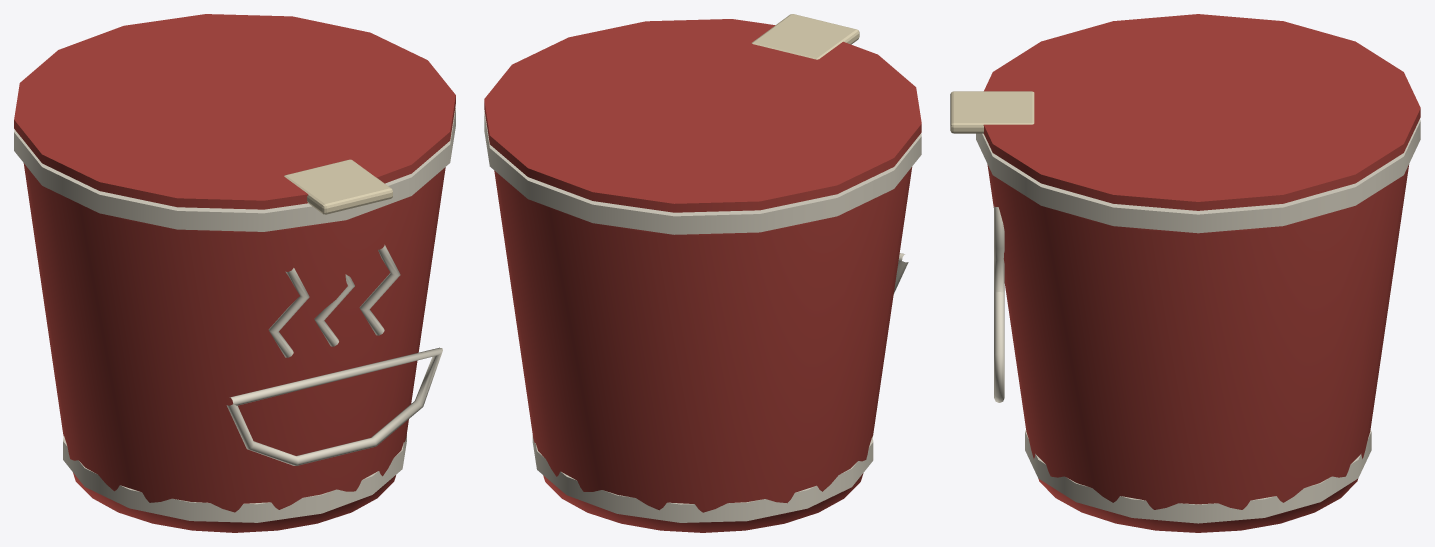
The model's file is cup-open-s02.glb.
3 renders of one model, left to right at view 1: azimuth 30°, elevation 25°; view 2: azimuth 150°, elevation 25°; view 3: azimuth 270°, elevation 25°, orthographic.
Parts seen in each view (by area): view 1: cup_Palette, Lid_Palette; view 2: cup_Palette, Lid_Palette; view 3: cup_Palette, Lid_Palette.
Part boxes in pixels (x1=…): cup_Palette: x1=14, y1=107, x2=455, y2=532; Lid_Palette: x1=14, y1=14, x2=455, y2=214; cup_Palette: x1=484, y1=111, x2=921, y2=532; Lid_Palette: x1=484, y1=14, x2=921, y2=212; cup_Palette: x1=976, y1=119, x2=1420, y2=532; Lid_Palette: x1=950, y1=14, x2=1420, y2=210.
Size of the model in its own units: 0.5408 by 0.4776 by 0.572.
